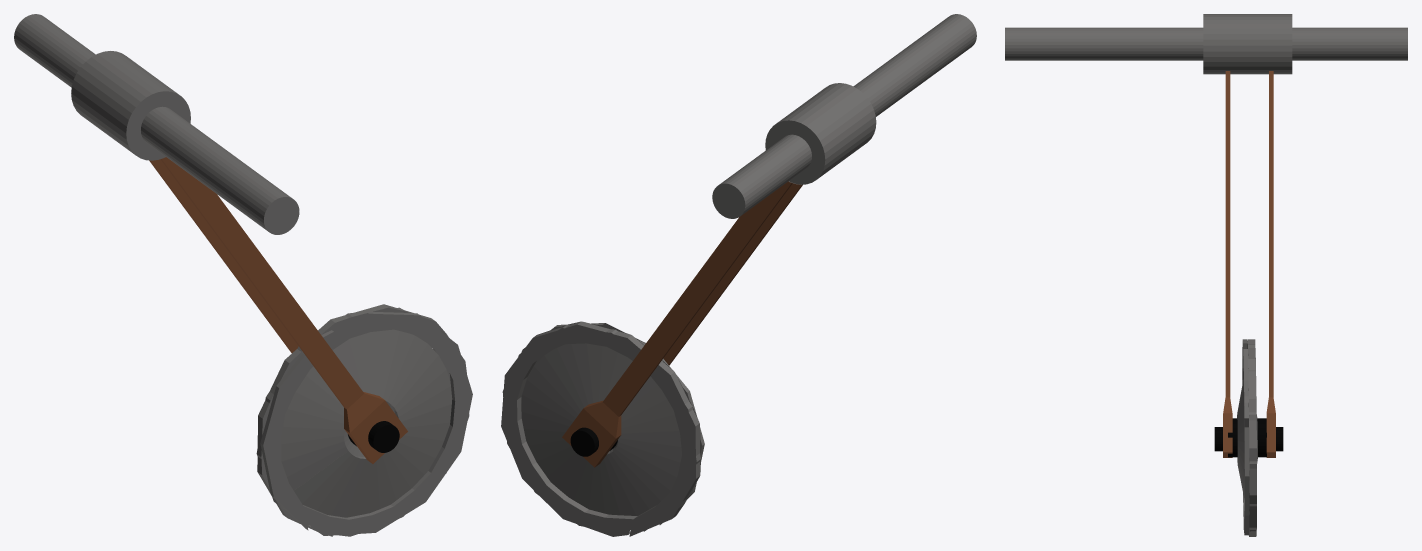
The picture shows the model from 3 angles, left to right: view 1: azimuth 30°, elevation 25°; view 2: azimuth 150°, elevation 25°; view 3: azimuth 270°, elevation 25°; orthographic projection. The views are drawn at different scales.
Parts seen in each view (by area): view 1: Circle, Cylinder.001, Cube, Cylinder.002; view 2: Circle, Cylinder.001, Cube, Cylinder.002; view 3: Cylinder.001, Cube, Circle, Cylinder.
Boxes of the visible parts, x1,y1,x2,y2 form: Circle: [256, 304, 472, 536]; Cylinder.001: [14, 14, 299, 234]; Cube: [149, 157, 407, 463]; Cylinder.002: [368, 421, 399, 452]; Circle: [501, 321, 704, 536]; Cylinder.001: [712, 14, 976, 218]; Cube: [562, 181, 802, 467]; Cylinder.002: [570, 427, 598, 456]; Cylinder.001: [1005, 14, 1407, 74]; Cube: [1223, 71, 1275, 457]; Circle: [1237, 339, 1257, 536]; Cylinder: [1228, 418, 1266, 457].
Size of the model in its own units: 4.21 by 5.6 by 4.89.
